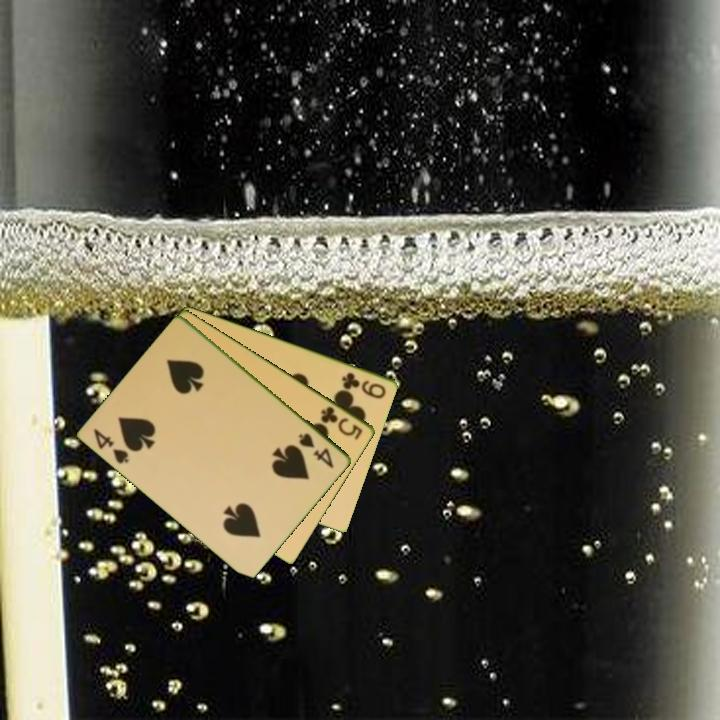4s: (295, 429, 337, 471), (90, 425, 132, 467)
5c: (317, 402, 366, 442)
9c: (338, 368, 389, 401)
